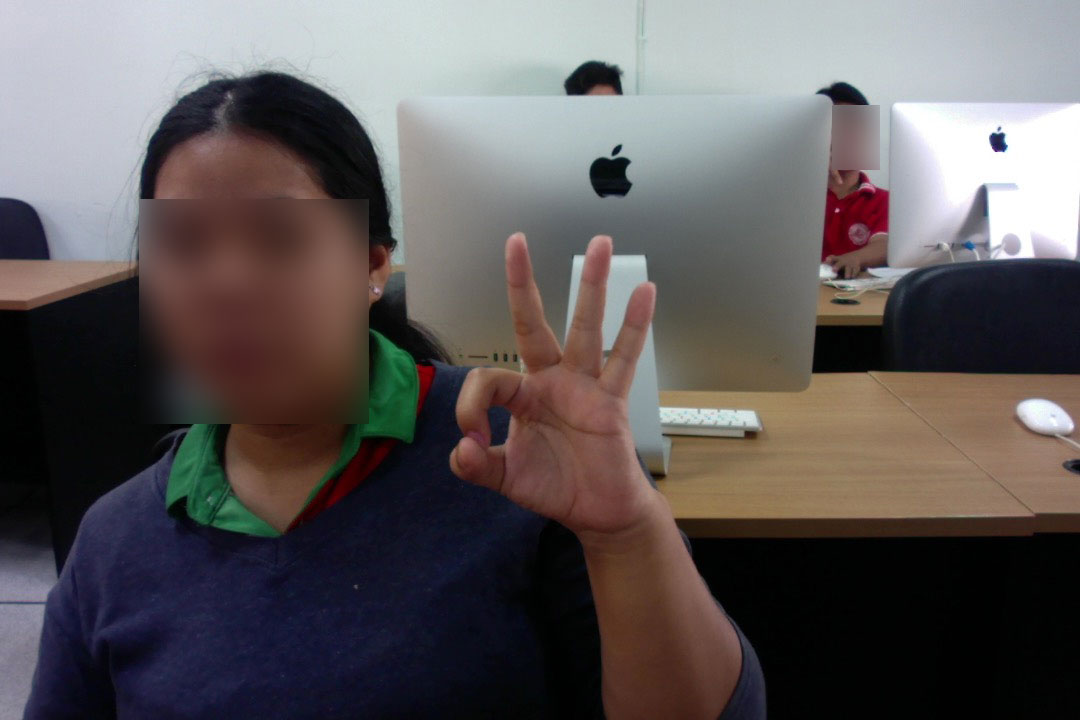for: (436, 220, 668, 537)
